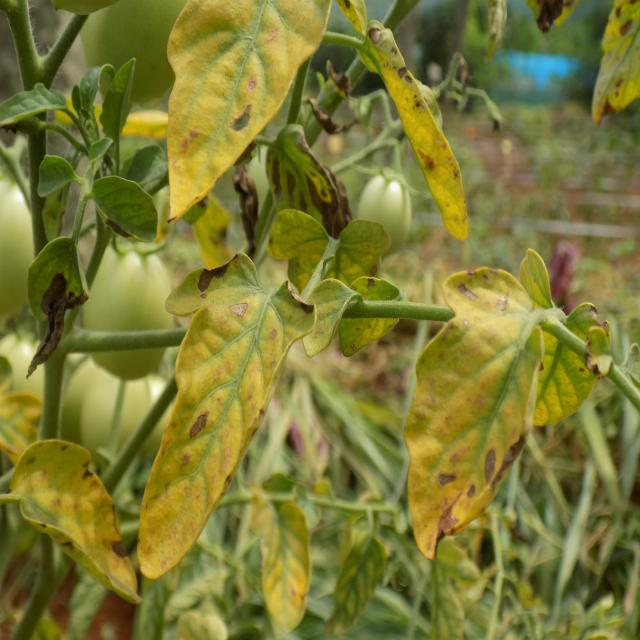tomato_early blight: (142, 253, 316, 580), (406, 267, 542, 560), (165, 0, 331, 220), (359, 12, 470, 238), (13, 437, 139, 600), (266, 121, 351, 249), (328, 532, 388, 640), (260, 502, 307, 633), (591, 0, 640, 124), (305, 270, 351, 356)
